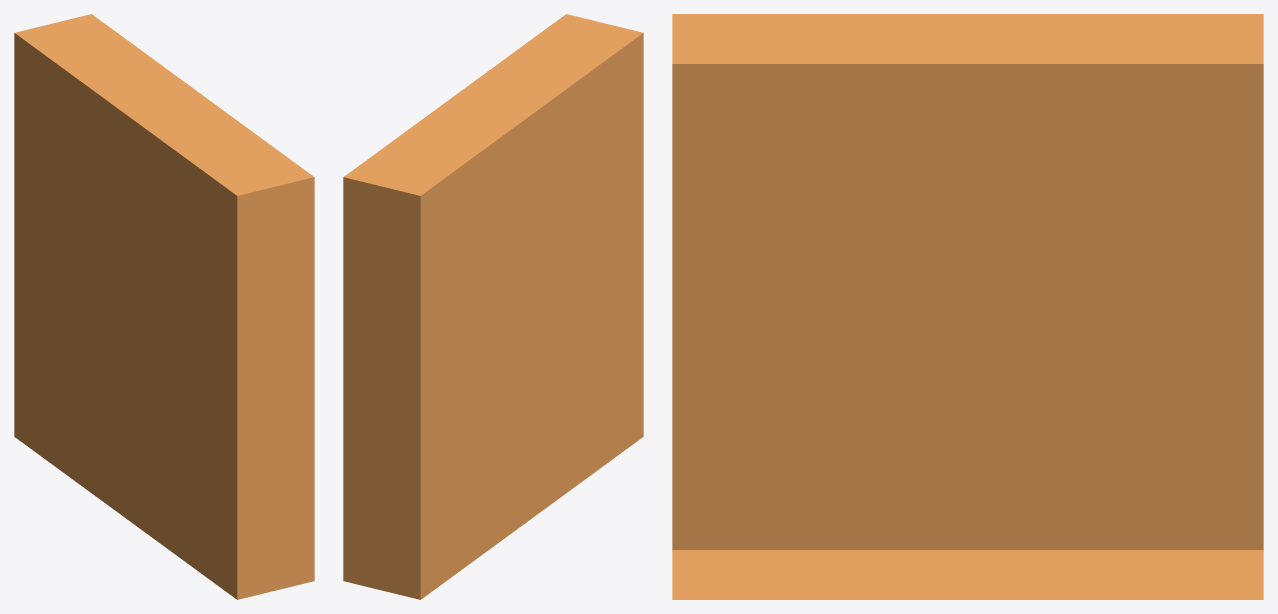
The model's file is original-73.obj.
3 renders of one model, left to right at view 1: azimuth 30°, elevation 25°; view 2: azimuth 150°, elevation 25°; view 3: azimuth 270°, elevation 25°, orthographic. The views are drawn at different scales.
Parts seen in each view (by area): view 1: #ID440; view 2: #ID440; view 3: #ID440.
Part boxes in pixels (x1,y1,x2,y2): #ID440: (14,14,314,599); #ID440: (343,14,643,599); #ID440: (672,14,1263,599).
Size of the model in its own units: 0.0083 by 0.0415 by 0.0415.
